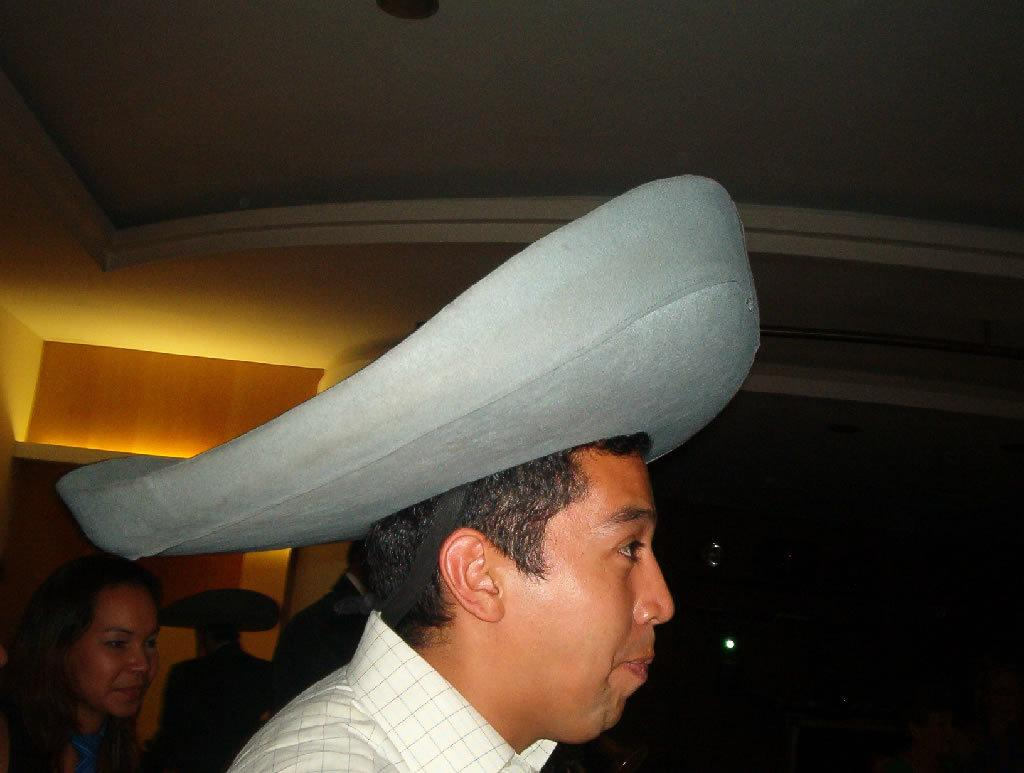Hat: (56, 177, 766, 559)
